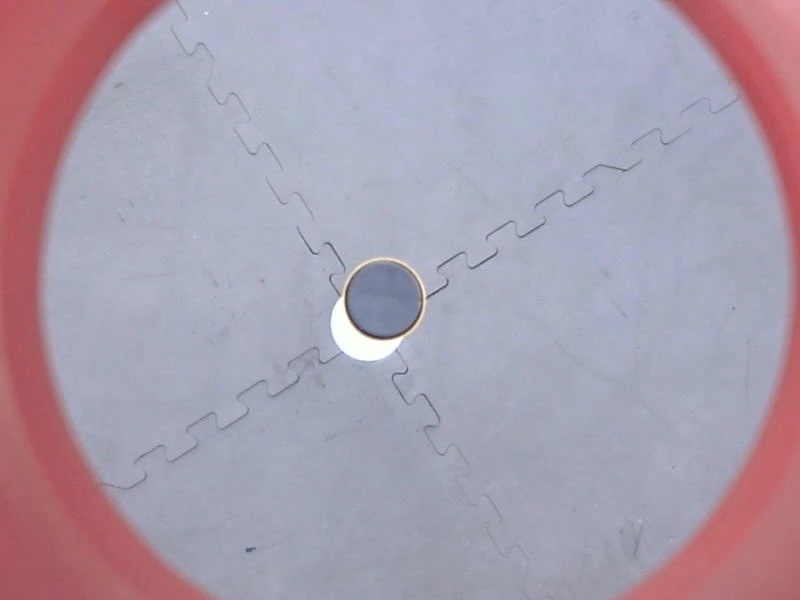tip: (338, 252, 432, 346)
